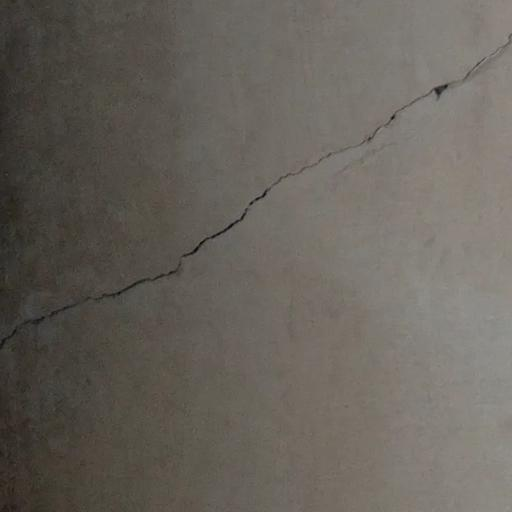major_crack: (0, 31, 512, 358)
